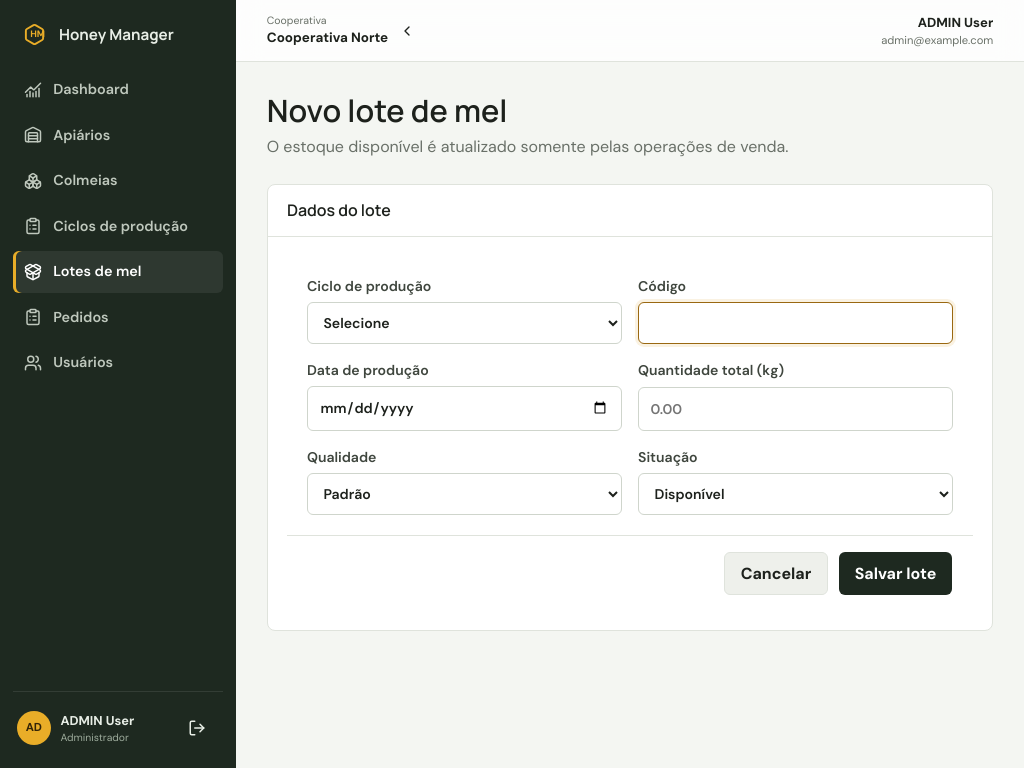
Scenario: Honey Batch management › creates a batch with cycle selection and a decimal-safe tenant-free payload
The image size is (1024, 768).
Select "01/09/2026 · Ativo" in the dropdown labelled "Ciclo de produção" at coordinates (464, 323), box [307, 302, 622, 344]
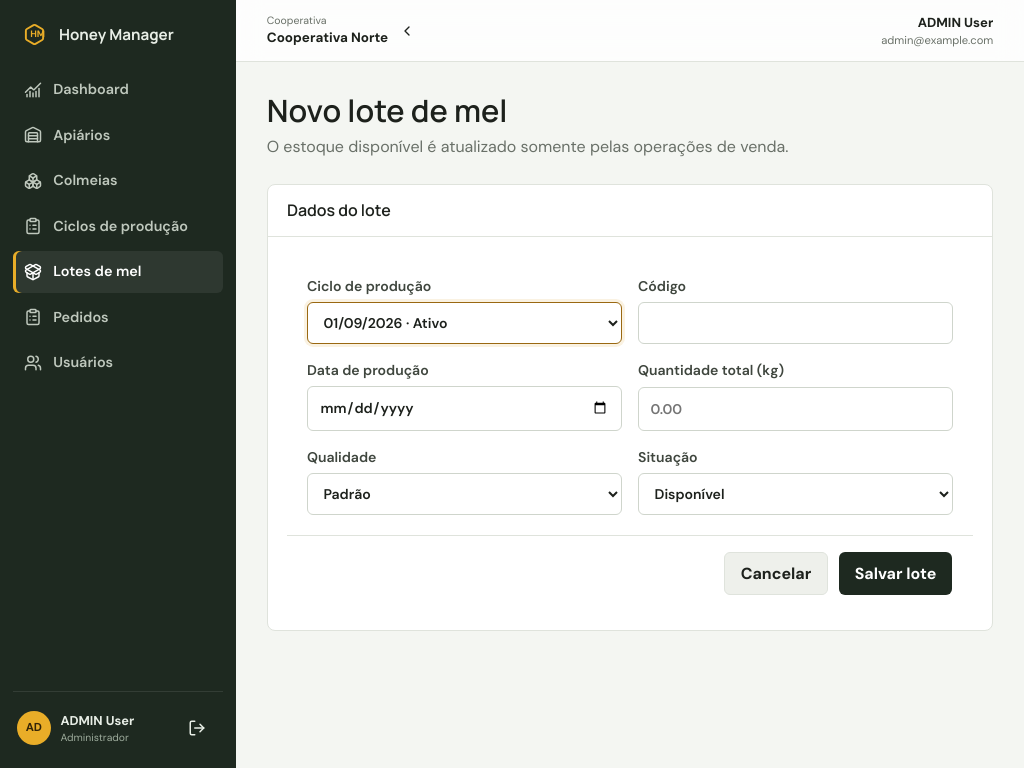
Type "LOTE-001" into the field labelled "Código" at coordinates (796, 323), box [638, 302, 953, 344]
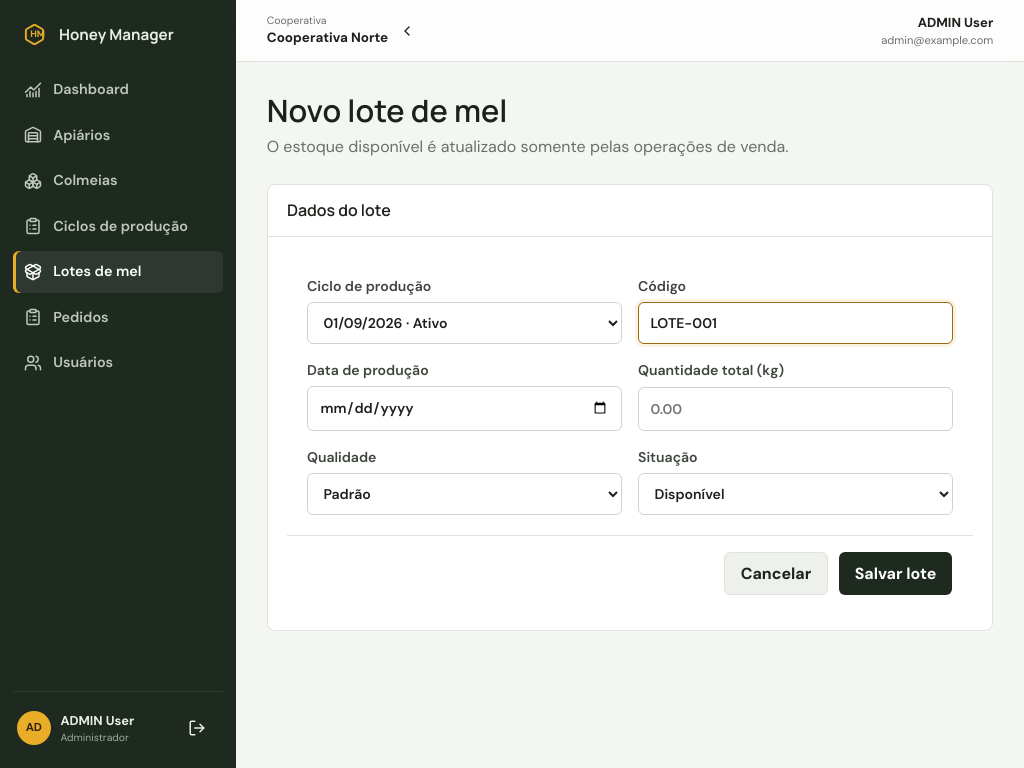
Type "2026-09-02" into the date field labelled "Data de produção" at coordinates (464, 408), box [307, 386, 622, 430]
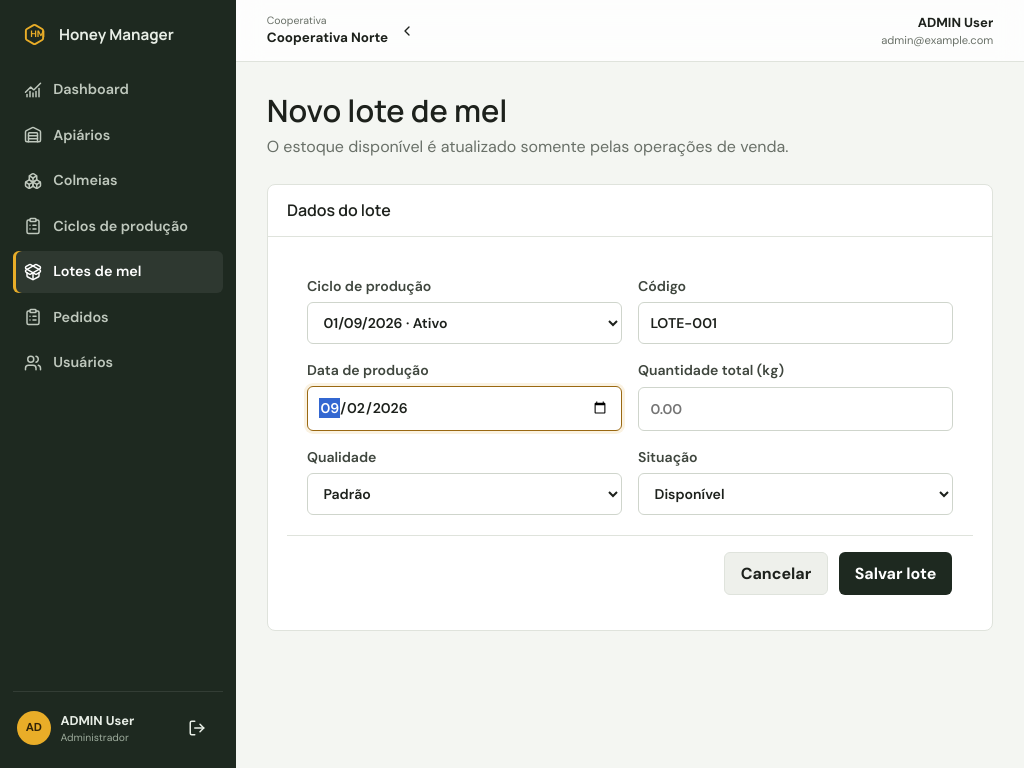
Type "100.50" into the field labelled "Quantidade total (kg)" at coordinates (796, 409), box [638, 387, 953, 430]
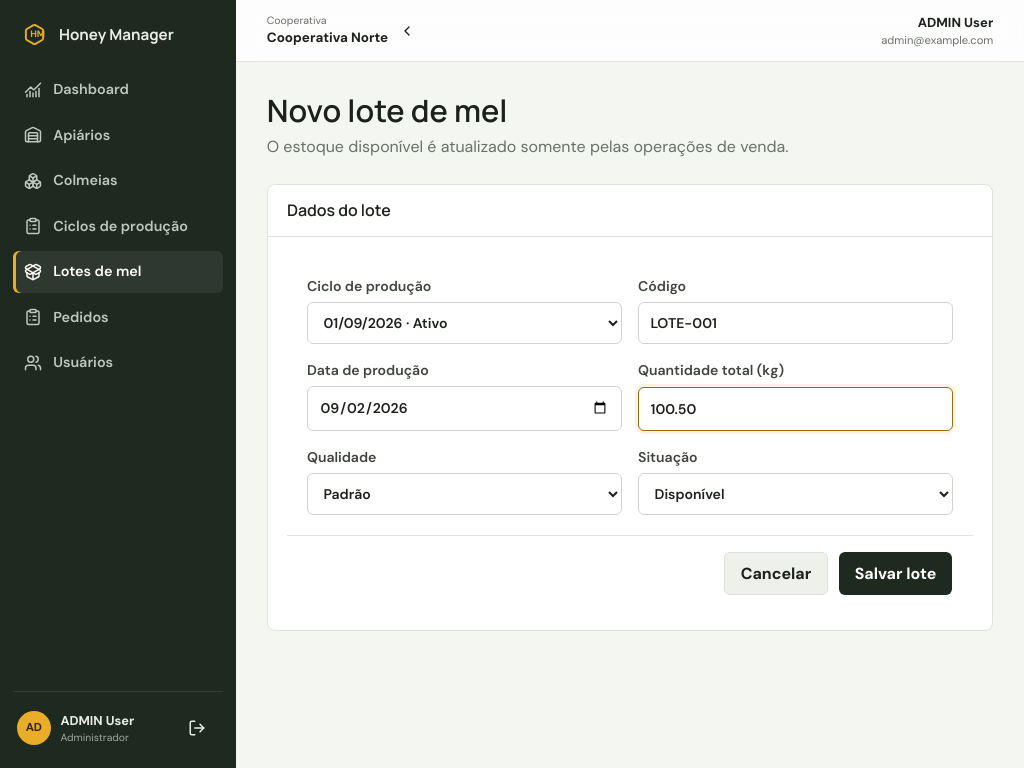
Select "Premium" in the dropdown labelled "Qualidade" at coordinates (464, 494), box [307, 472, 622, 514]
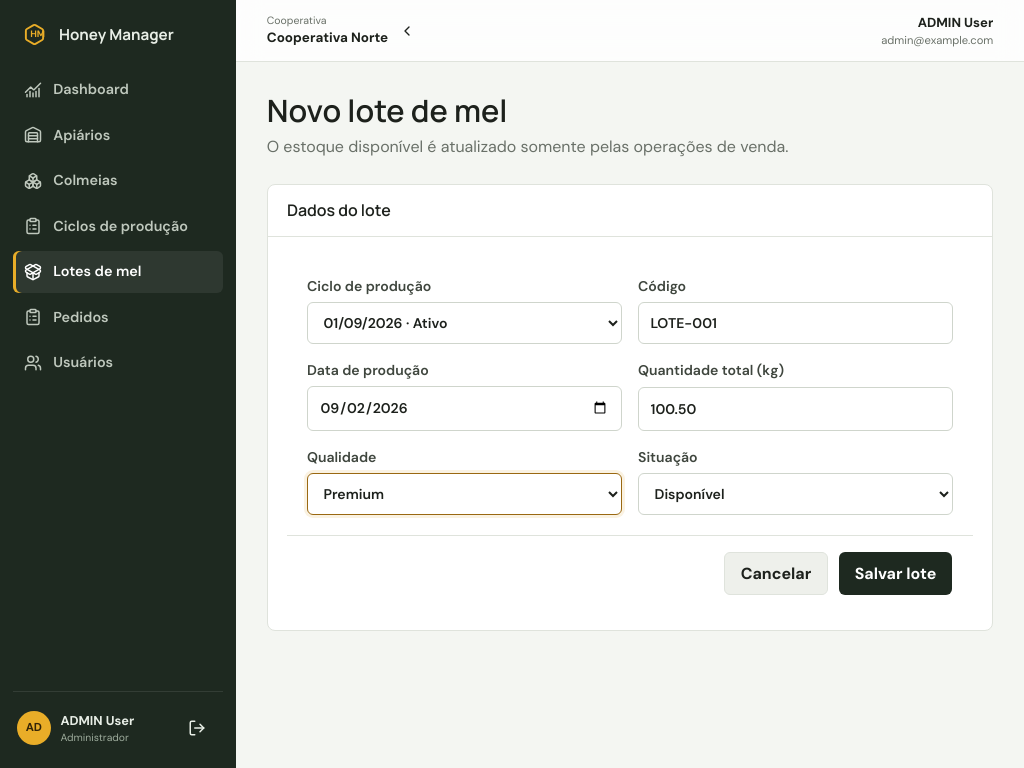
Click the button "Salvar lote" at coordinates (896, 573), box [839, 552, 952, 595]
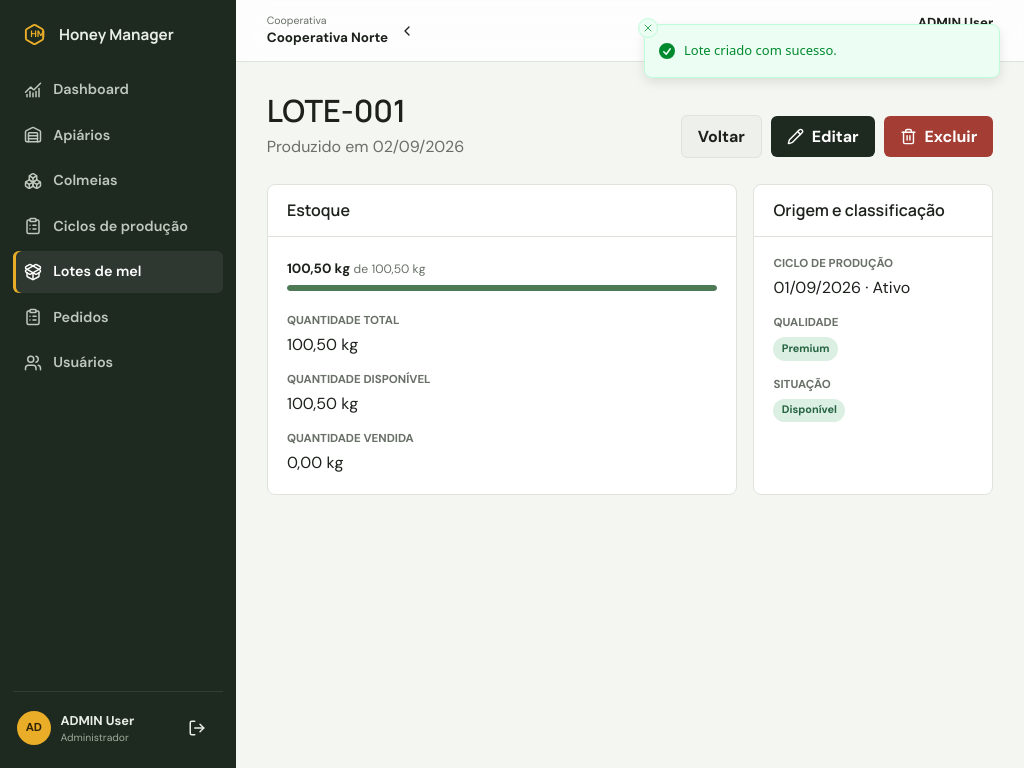
Result: the heading "LOTE-001" is shown at [267, 89, 406, 131]
